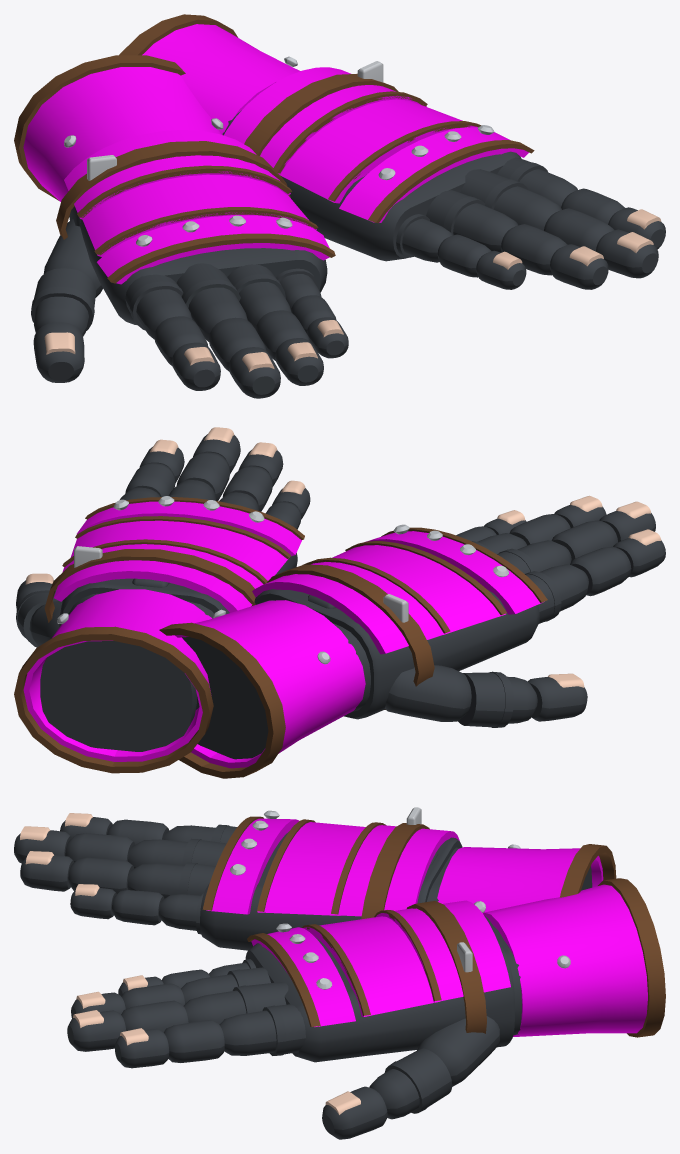
The model's file is objet_armure1_gants.glb.
The picture shows the model from 3 angles, top to bottom: view 1: azimuth 30°, elevation 25°; view 2: azimuth 150°, elevation 25°; view 3: azimuth 270°, elevation 25°; orthographic projection. The views are drawn at different scales.
Visible parts, largest first — view 1: main__gantelet_teinte.021, main__gantelet_teinte.022, manchette__gantelet_teinte.022, main__gantelet_sac_cuir.006, manchette__gantelet_teinte.021, main__gantelet_sac_cuir.005, main.021, main.022, pouce_2.022, annulaire_1.021, majeur_1.021, majeur_1.022 (+27 smaller); view 2: manchette.021, main__gantelet_teinte.022, main__gantelet_teinte.021, manchette__gantelet_teinte.022, main.022, manchette__gantelet_teinte.021, manchette__gantelet_sac_cuir.005, main__gantelet_sac_cuir.006, main__gantelet_sac_cuir.005, manchette.022, manchette__gantelet_sac_cuir.006, pouce_1.022 (+27 smaller); view 3: manchette__gantelet_teinte.021, main__gantelet_teinte.021, main__gantelet_teinte.022, main.021, manchette__gantelet_teinte.022, main__gantelet_sac_cuir.005, main.022, main__gantelet_sac_cuir.006, pouce_2.021, index_1.021, manchette__gantelet_sac_cuir.005, pouce_1.021 (+26 smaller).
Boxes of the visible parts, x1,y1,x2,y2 form: main__gantelet_teinte.021: (224,67,529,222); main__gantelet_teinte.022: (64,130,329,284); manchette__gantelet_teinte.022: (23,67,221,201); main__gantelet_sac_cuir.006: (56,141,335,283); manchette__gantelet_teinte.021: (142,24,300,134); main__gantelet_sac_cuir.005: (244,73,534,222); main.021: (222,111,521,261); main.022: (69,206,327,324); pouce_2.022: (31,268,95,336); annulaire_1.021: (426,190,518,252); majeur_1.021: (460,169,561,230); majeur_1.022: (176,263,247,341); manchette.021: (40,641,196,751); main__gantelet_teinte.022: (252,531,544,654); main__gantelet_teinte.021: (54,501,301,612); manchette__gantelet_teinte.022: (175,600,365,768); main.022: (254,589,539,719); manchette__gantelet_teinte.021: (23,589,211,761); manchette__gantelet_sac_cuir.005: (14,626,213,773); main__gantelet_sac_cuir.006: (266,527,547,709); main__gantelet_sac_cuir.005: (44,497,304,622); manchette.022: (182,637,268,759); manchette__gantelet_sac_cuir.006: (159,622,285,778); pouce_1.022: (384,665,471,721); manchette__gantelet_teinte.021: (483,884,647,1036); main__gantelet_teinte.021: (251,900,510,1027); main__gantelet_teinte.022: (206,818,459,916); main.021: (245,924,521,1062); manchette__gantelet_teinte.022: (437,847,603,913); main__gantelet_sac_cuir.005: (247,901,486,1033); main.022: (200,825,462,950); main__gantelet_sac_cuir.006: (202,816,429,919); pouce_2.021: (369,1048,452,1119); index_1.021: (219,1004,305,1055); manchette__gantelet_sac_cuir.005: (598,878,665,1037); pouce_1.021: (417,1016,499,1086).
Size of the model in its own units: 0.3286 by 0.0844 by 0.3517.
